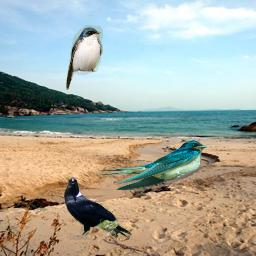Crow: (63, 177, 133, 240)
Swallow: (94, 140, 207, 191), (66, 25, 103, 90)
